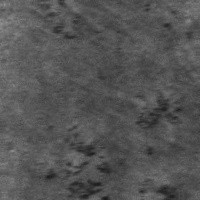rolled-in_scale: (42, 121, 118, 200), (133, 90, 184, 159), (38, 1, 97, 43), (136, 175, 184, 197)
